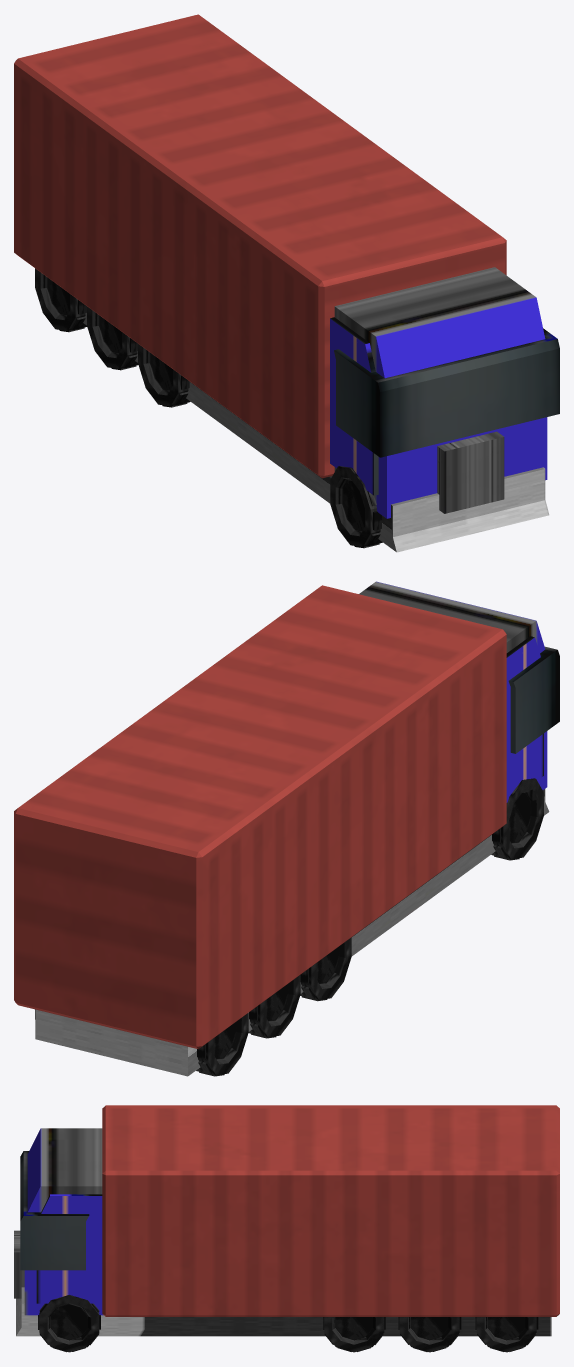
Rendered from vehicle-truck_3.fbx.
The picture shows the model from 3 angles, top to bottom: view 1: azimuth 30°, elevation 25°; view 2: azimuth 150°, elevation 25°; view 3: azimuth 270°, elevation 25°; orthographic projection. The views are drawn at different scales.
Visible parts, largest first — view 1: Cube.048; view 2: Cube.048; view 3: Cube.048.
Boxes of the visible parts, <box> form: Cube.048: <box>14,14,559,552</box>; Cube.048: <box>14,581,559,1076</box>; Cube.048: <box>14,1105,559,1352</box>.
Size of the model in its own units: 200 by 251 by 677.
